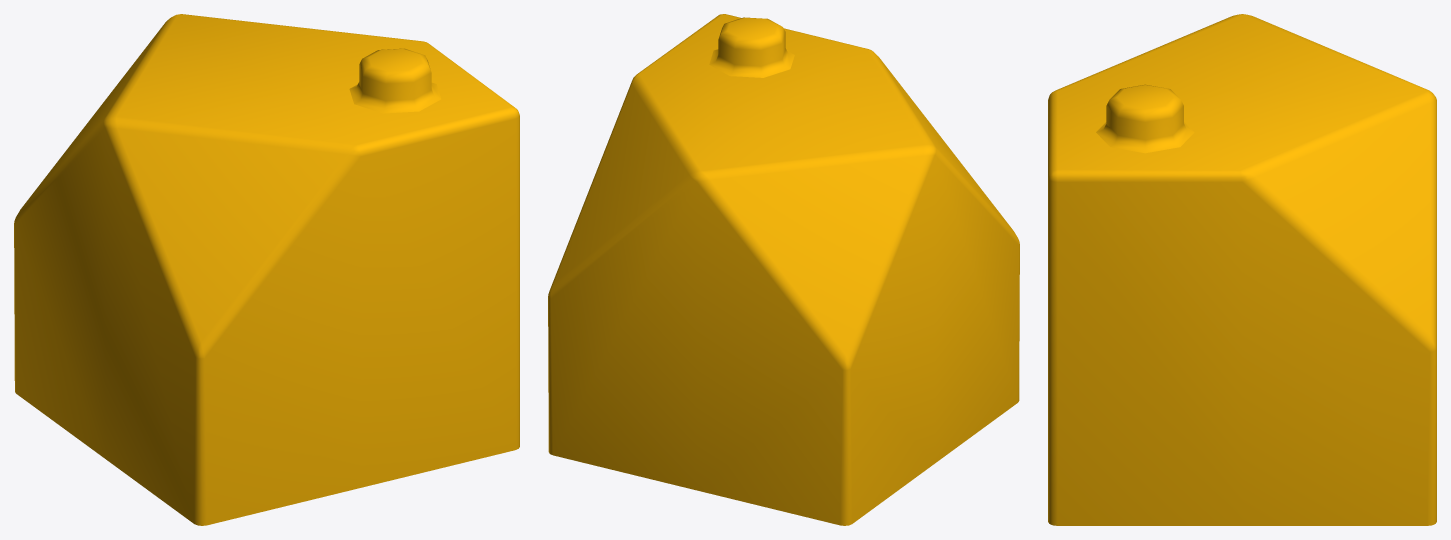
File: Bevel_Three_Vertex.fbx
3 views of the same model, side by side, from view 1: azimuth 30°, elevation 25°; view 2: azimuth 150°, elevation 25°; view 3: azimuth 270°, elevation 25° (orthographic). The views are drawn at different scales.
Parts seen in each view (by area): view 1: Bevel_Three_Vertex, Knobs.039; view 2: Bevel_Three_Vertex, Knobs.039; view 3: Bevel_Three_Vertex, Knobs.039.
Boxes of the visible parts, bbox=[...] form: Bevel_Three_Vertex: bbox=[14, 14, 519, 525]; Knobs.039: bbox=[349, 48, 440, 113]; Bevel_Three_Vertex: bbox=[548, 14, 1019, 525]; Knobs.039: bbox=[709, 17, 794, 77]; Bevel_Three_Vertex: bbox=[1048, 14, 1436, 525]; Knobs.039: bbox=[1096, 84, 1194, 153].
Size of the model in its own units: 1 by 1.1 by 1.
